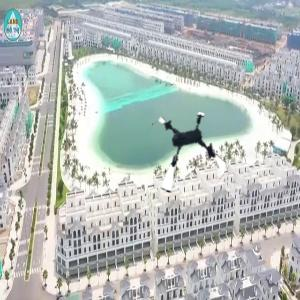drone: (145, 111, 232, 198)
